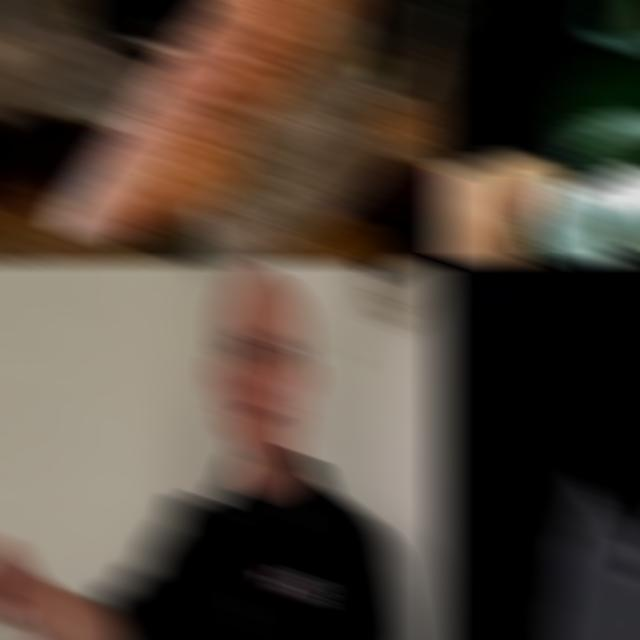Knife_Handle: (434, 71, 640, 264), (0, 527, 90, 640)
